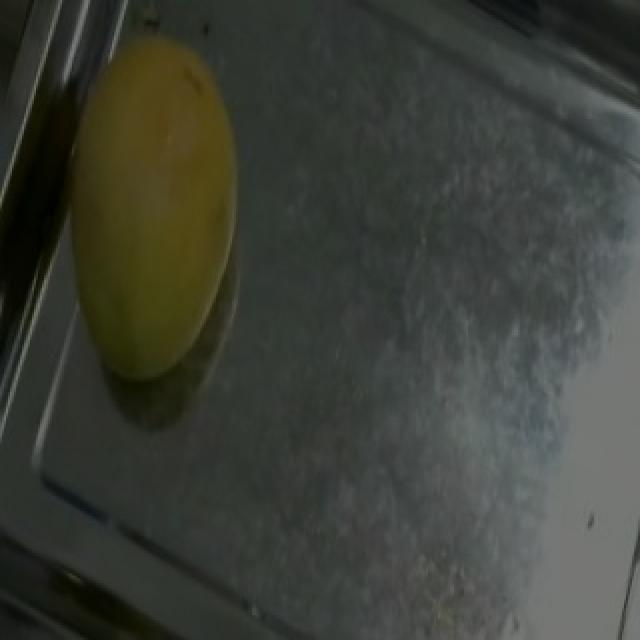fruit: (34, 0, 324, 412)
